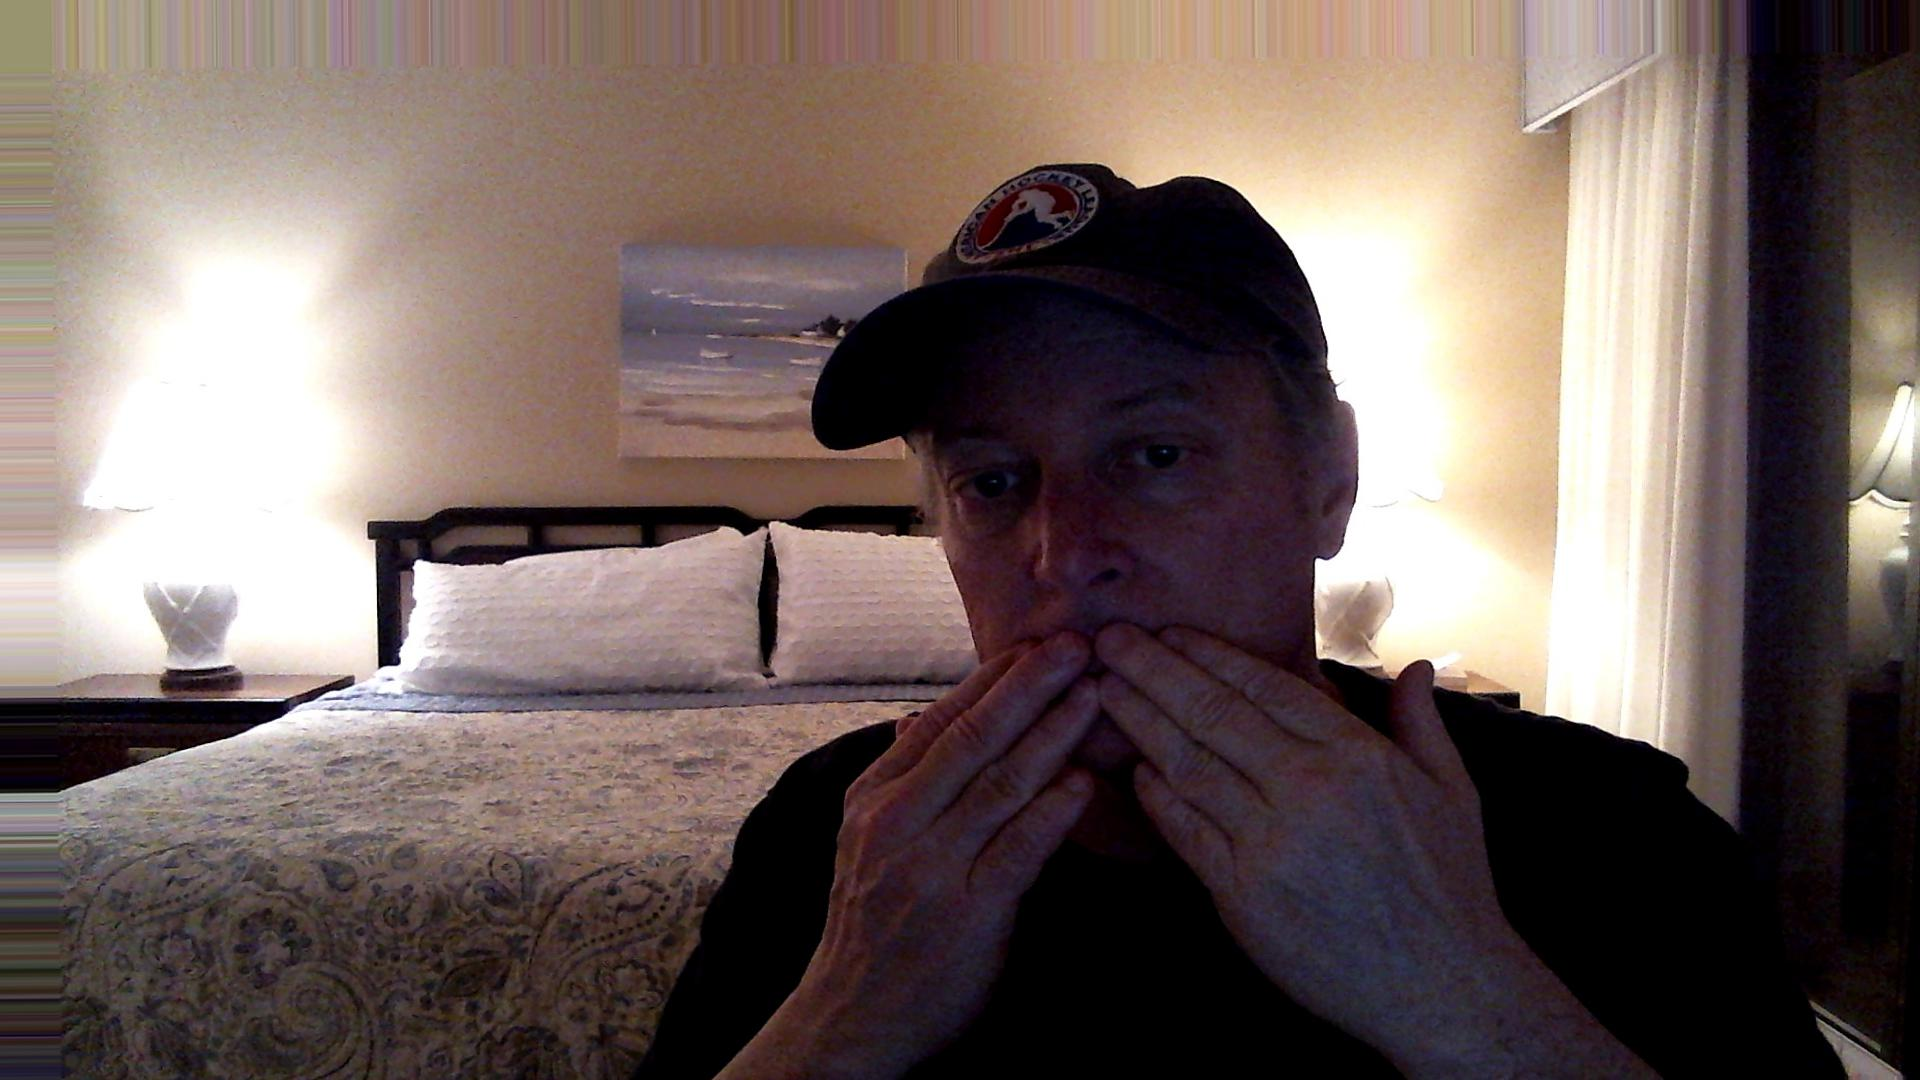Thank You: (807, 608, 1613, 988)
